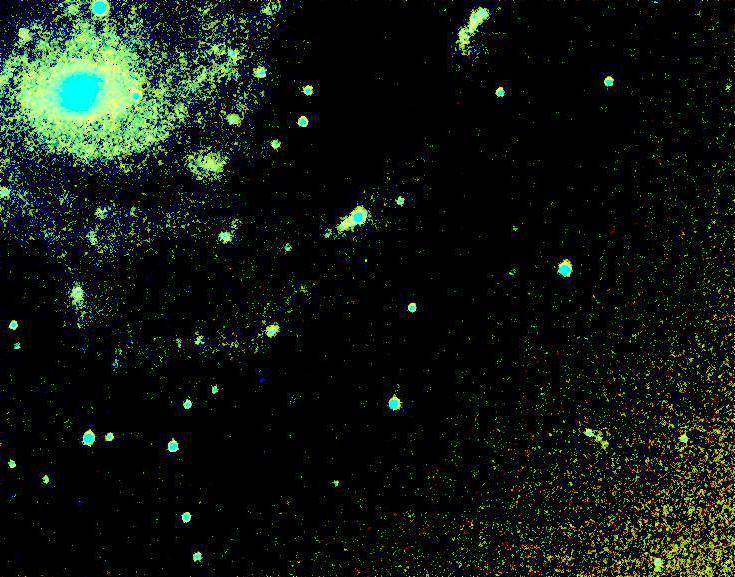star: (350, 244, 380, 274)
